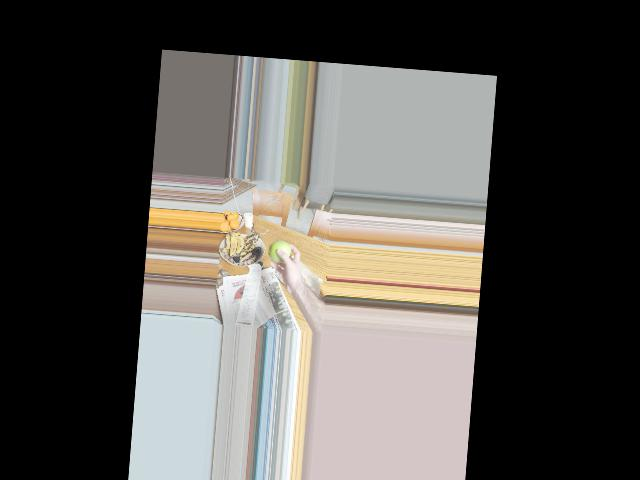apple: (267, 239, 292, 265)
